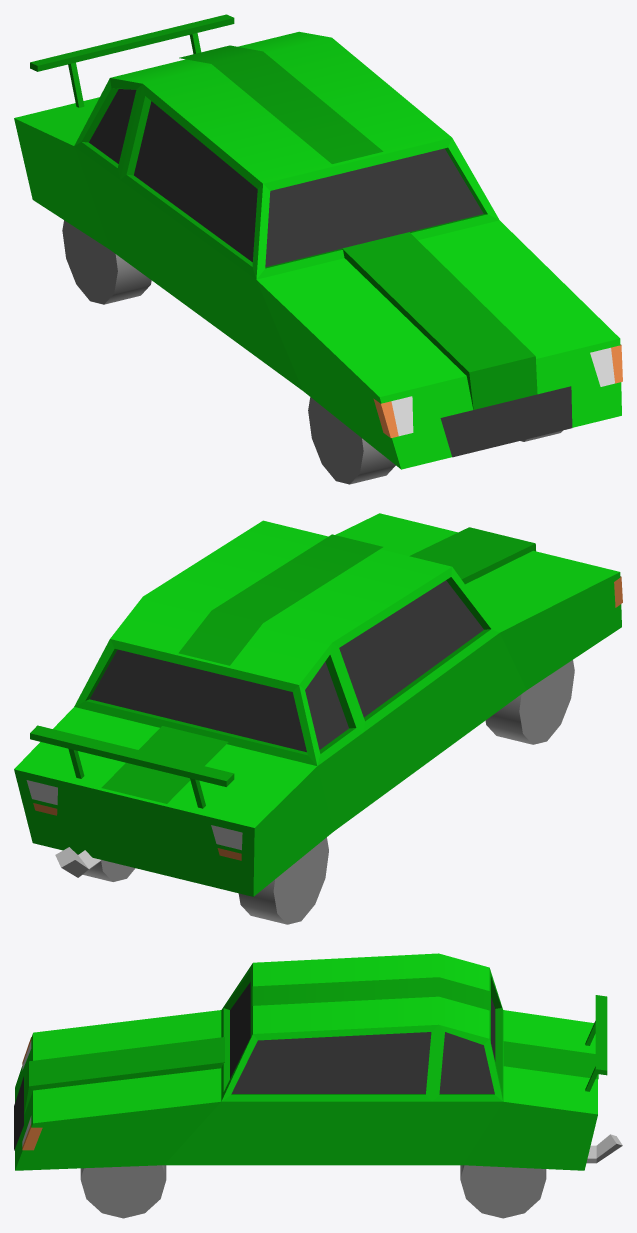
Rendered from sportscar_02.fbx.
3 views of the same model, one above another, from view 1: azimuth 30°, elevation 25°; view 2: azimuth 150°, elevation 25°; view 3: azimuth 270°, elevation 25° (orthographic). The views are drawn at different scales.
Visible parts, largest first — view 1: sportscar_02; view 2: sportscar_02; view 3: sportscar_02.
Part boxes in pixels (x1,y1,x2,y2): sportscar_02: (14, 14, 622, 484); sportscar_02: (14, 513, 622, 924); sportscar_02: (14, 953, 622, 1218).
Bounding box in the file's own units: 1.6 × 1.56 × 4.49.
